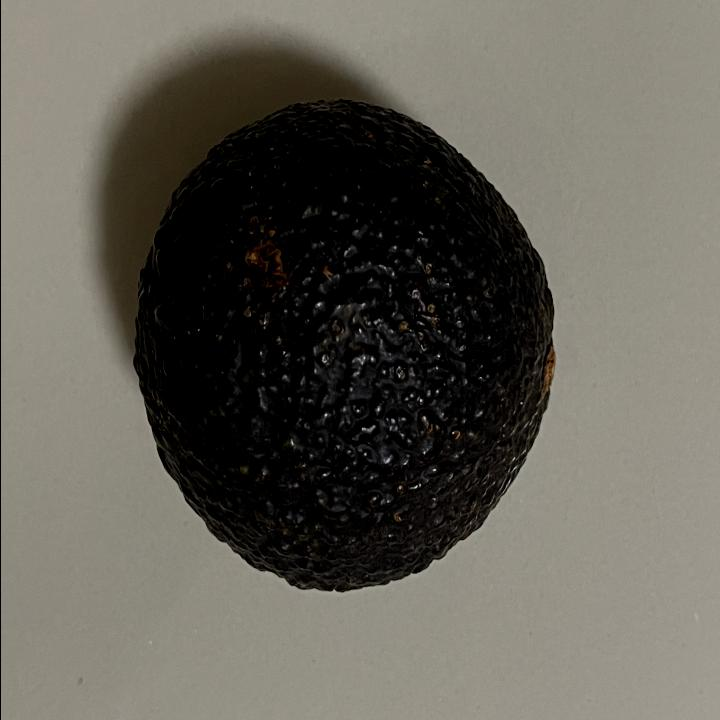Level1: (128, 85, 566, 616)
